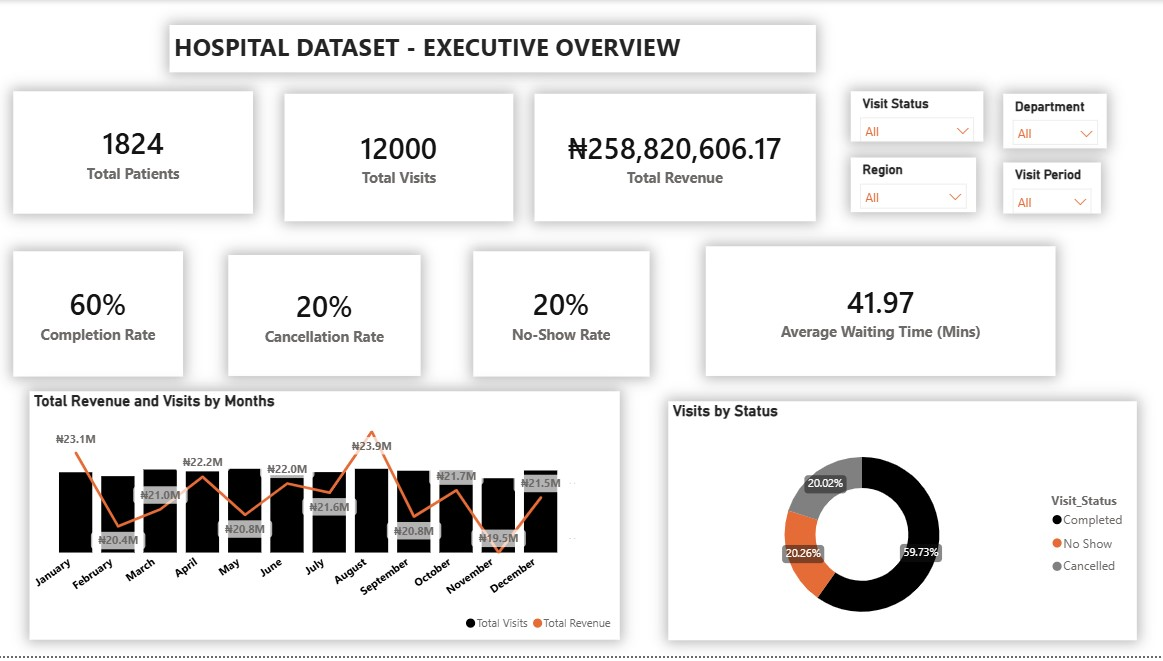

Layout of this report page (visuals, bound fields, positions):
{"tool":"powerbi","page":{"name":"Executive Overview.","canvas":[1280,720],"ordinal":0},"visuals":[{"type":"cardVisual","fields":{"Data":["DAX MEASURES.No-Show Rate"]},"box":[522.8,275.8,193.5,137.2],"z":0},{"type":"cardVisual","fields":{"Data":["DAX MEASURES.Completion Rate"]},"box":[17.8,275.8,186.6,137.2],"z":1000},{"type":"cardVisual","fields":{"Data":["DAX MEASURES.Total Revenue"]},"box":[590.1,102.9,308.7,140],"z":2000},{"type":"cardVisual","fields":{"Data":["DAX MEASURES.Cancellation Rate"]},"box":[253.9,279.9,211.3,133.1],"z":3000},{"type":"cardVisual","fields":{"Data":["DAX MEASURES.Average Waiting Time (Completed)"]},"box":[778,270.3,384.2,142.7],"z":4000},{"type":"textbox","box":[189.4,27.4,709.4,52.1],"z":5000},{"type":"cardVisual","fields":{"Data":["DAX MEASURES.Total Patients"]},"box":[17.8,100.2,263.5,134.5],"z":6000},{"type":"donutChart","title":"Visits by Status","fields":{"Category":["Visits.Visit_Status"],"Y":["DAX MEASURES.Total Visits"]},"box":[736.9,440.5,514.6,262.1],"z":7000},{"type":"lineClusteredColumnComboChart","title":"Total Revenue and Visits by Months","fields":{"Y":["DAX MEASURES.Total Visits"],"Y2":["DAX MEASURES.Total Revenue"],"Category":["Visits.Visit_Months"]},"box":[35.7,429.5,647.7,273.1],"z":8000},{"type":"slicer","fields":{"Values":["Visits.Visit_Status"]},"box":[937.2,100.2,145.5,54.9],"z":9000},{"type":"slicer","fields":{"Values":["Visits.Department"]},"box":[1104.6,102.9,113.9,60.4],"z":10000},{"type":"slicer","fields":{"Values":["Locations.Region"]},"box":[937.2,172.9,137.2,60.4],"z":11000},{"type":"slicer","fields":{"Values":["Visits.Visit_Months"]},"box":[1104.6,178.4,107,56.3],"z":12000},{"type":"cardVisual","fields":{"Data":["DAX MEASURES.Total Visits"]},"box":[315.6,102.9,251.1,140],"z":13000}]}

Visuals, with their boxes in screenshot pixels (x1, y1, x2, y2), scaled from the page's 1280x720 canvas onto the 1163x661 screenshot:
cardVisual - DAX MEASURES.No-Show Rate: region(475, 253, 651, 379)
cardVisual - DAX MEASURES.Completion Rate: region(16, 253, 186, 379)
cardVisual - DAX MEASURES.Total Revenue: region(536, 94, 817, 223)
cardVisual - DAX MEASURES.Cancellation Rate: region(231, 257, 423, 379)
cardVisual - DAX MEASURES.Average Waiting Time (Completed): region(707, 248, 1056, 379)
textbox: region(172, 25, 817, 73)
cardVisual - DAX MEASURES.Total Patients: region(16, 92, 256, 215)
"Visits by Status" donutChart: region(670, 404, 1137, 645)
"Total Revenue and Visits by Months" lineClusteredColumnComboChart: region(32, 394, 621, 645)
slicer - Visits.Visit_Status: region(852, 92, 984, 142)
slicer - Visits.Department: region(1004, 94, 1107, 150)
slicer - Locations.Region: region(852, 159, 976, 214)
slicer - Visits.Visit_Months: region(1004, 164, 1101, 215)
cardVisual - DAX MEASURES.Total Visits: region(287, 94, 515, 223)
